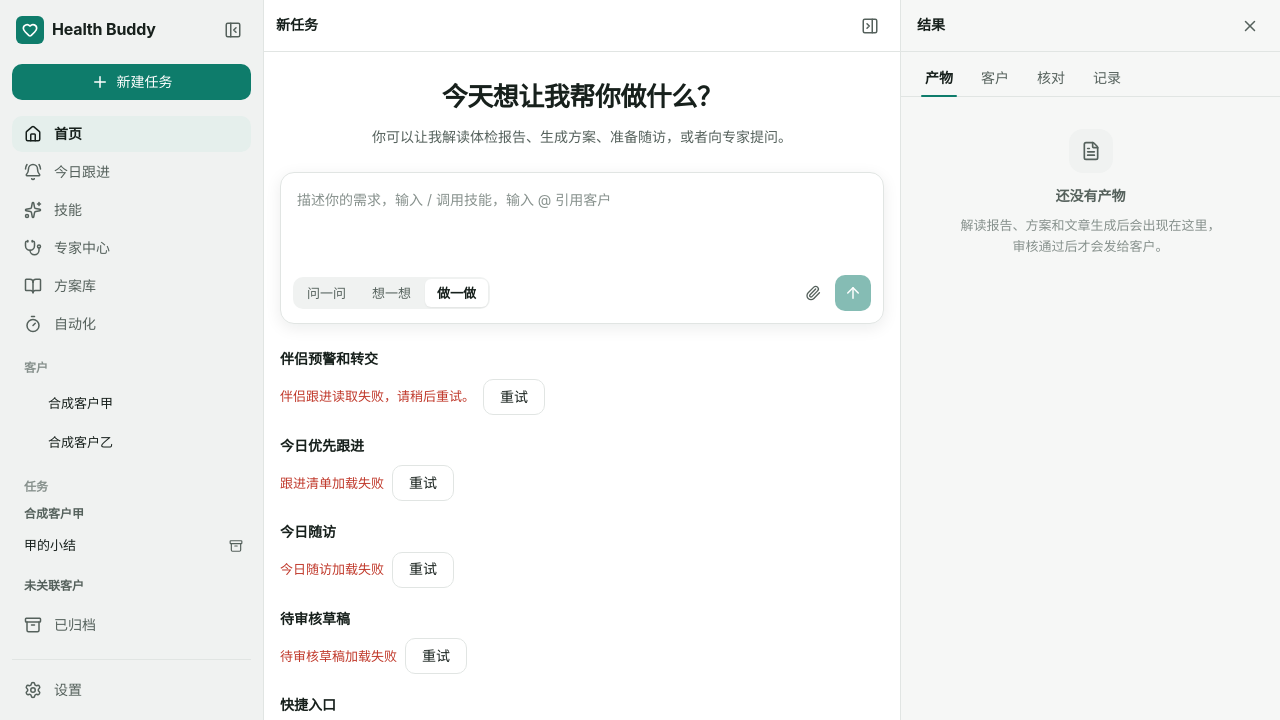
Scenario: AppShell (wide screen) › collapses and expands the sidebar
Step 1. Click the button named "收起侧栏" → (233, 30), box [215, 12, 251, 48]
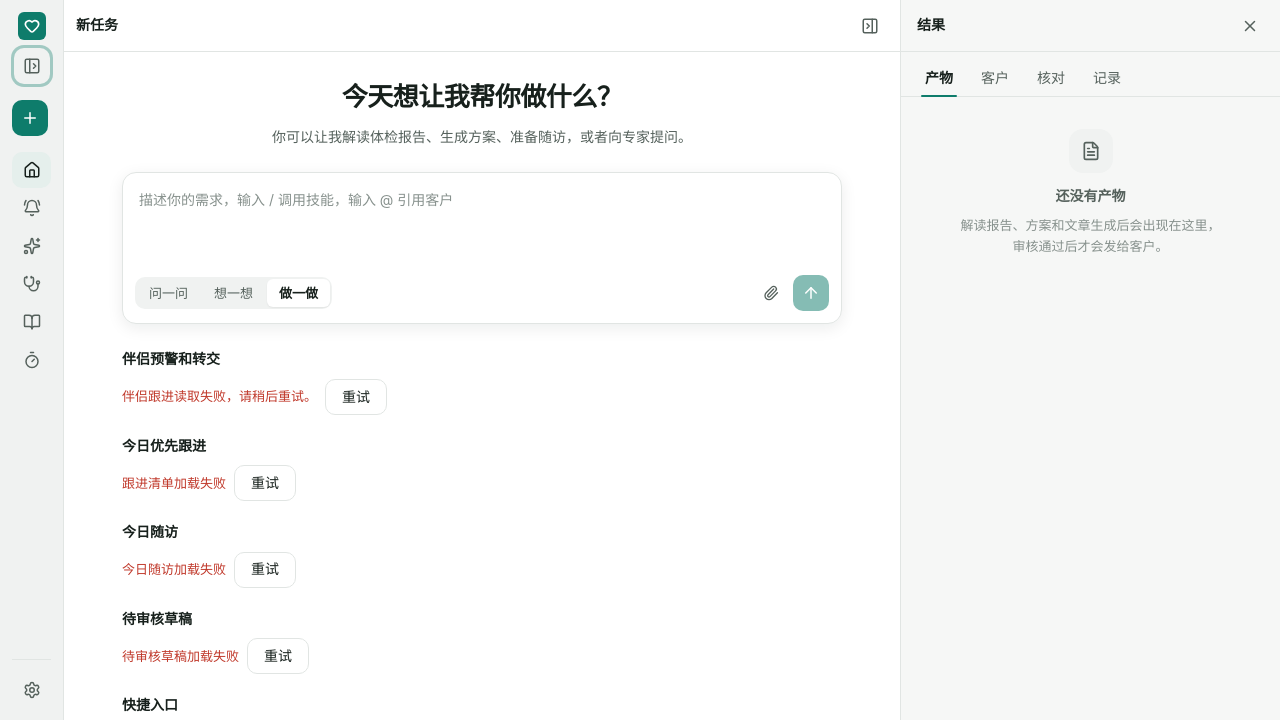
Check: the button named "展开侧栏" is collapsed, box [14, 48, 50, 84]
